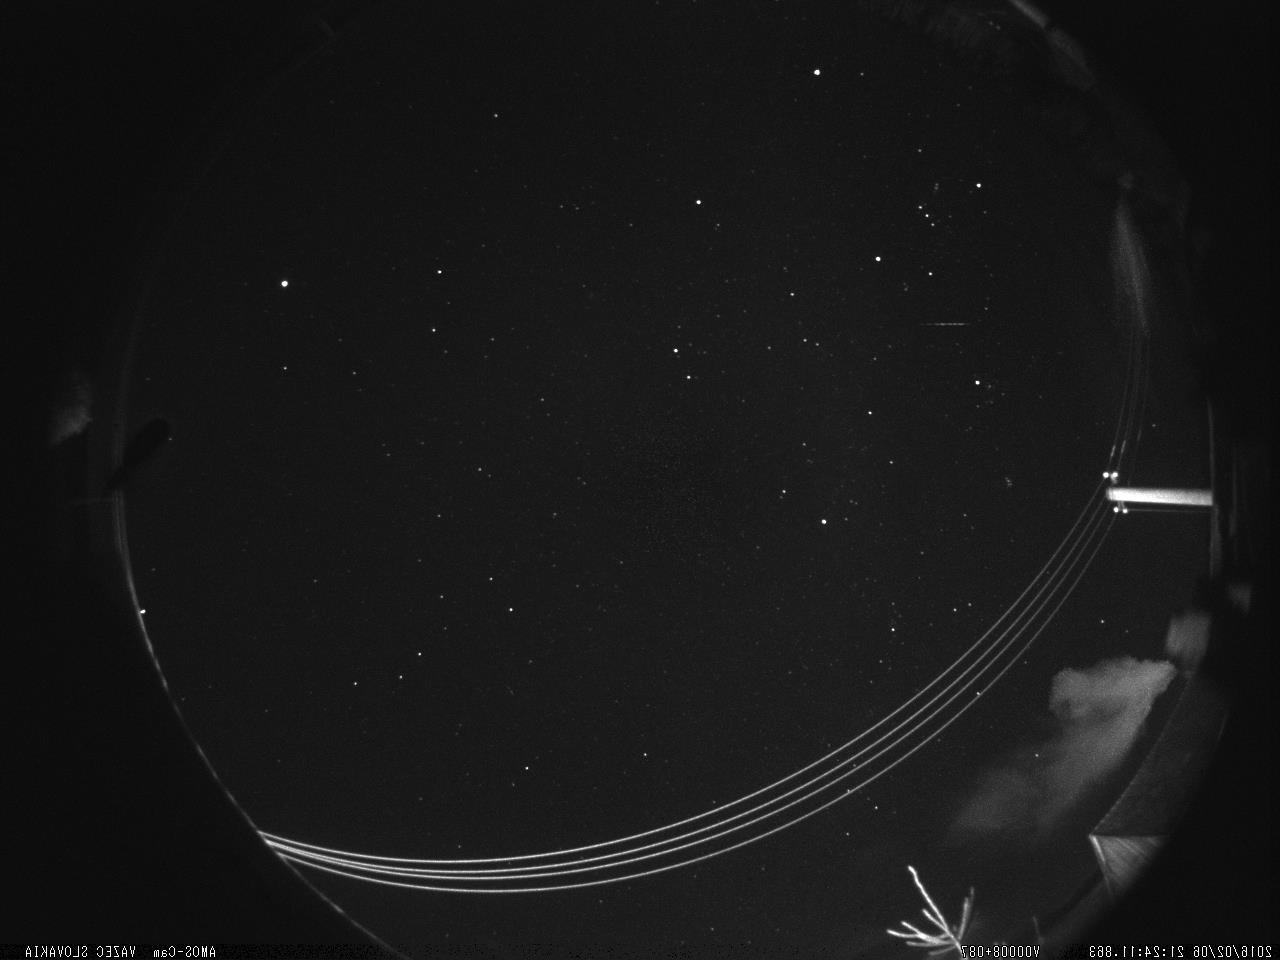meteor: (893, 293, 987, 342)
